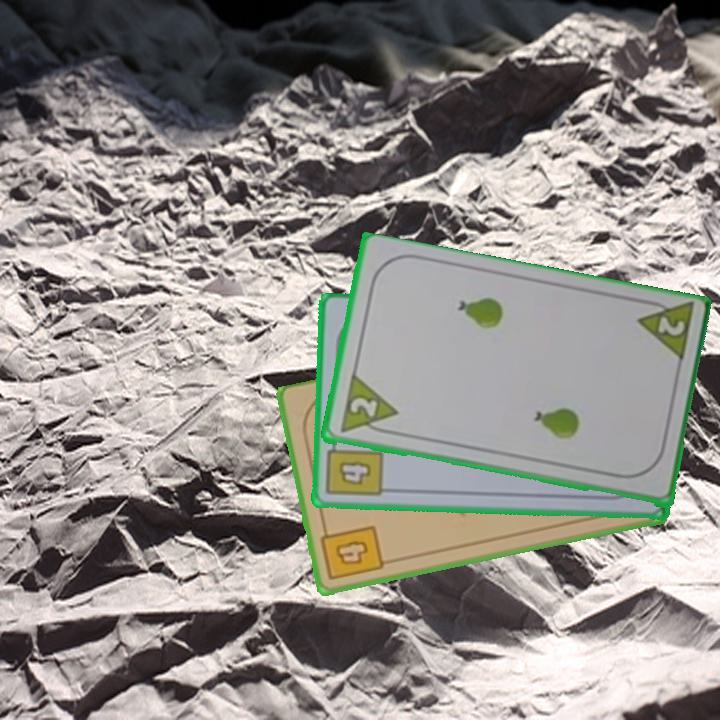2p: (632, 295, 696, 368), (336, 373, 400, 439)
4b: (317, 521, 387, 584), (323, 435, 386, 500)
